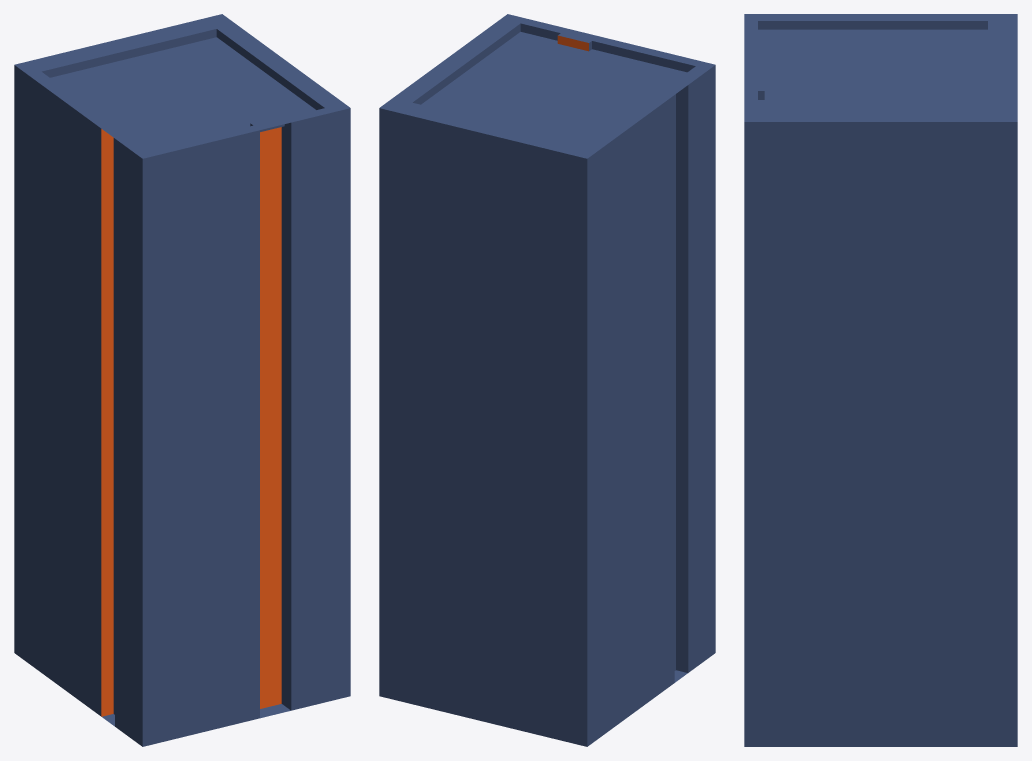
The picture shows the model from 3 angles, left to right: view 1: azimuth 30°, elevation 25°; view 2: azimuth 150°, elevation 25°; view 3: azimuth 270°, elevation 25°; orthographic projection. The views are drawn at different scales.
Visible parts, largest first — view 1: Cube.002; view 2: Cube.002; view 3: Cube.002.
Part boxes in pixels (<box>): Cube.002: <box>14,14,350,746</box>; Cube.002: <box>379,14,715,746</box>; Cube.002: <box>744,14,1017,746</box>.
Size of the model in its own units: 455 by 1228 by 487.
